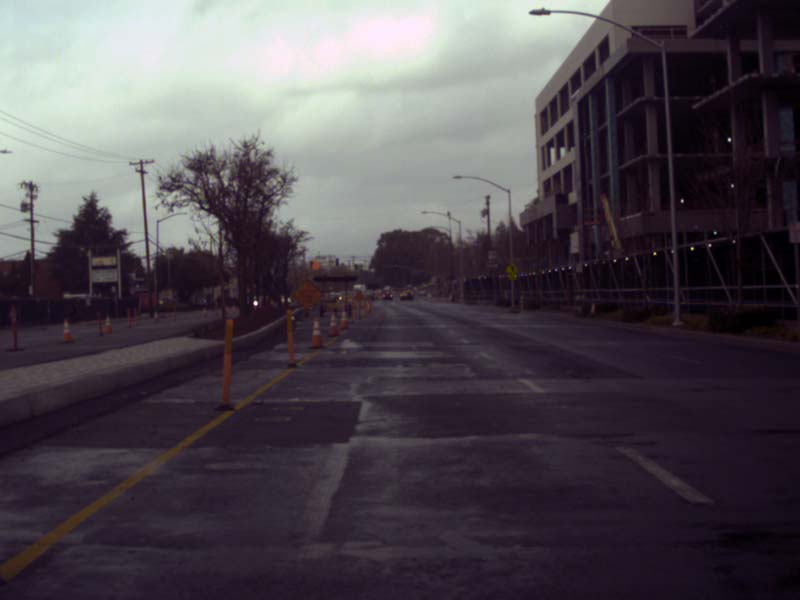Green: (354, 263, 357, 270)
Red: (376, 263, 379, 271), (394, 263, 396, 270), (437, 276, 439, 282)
